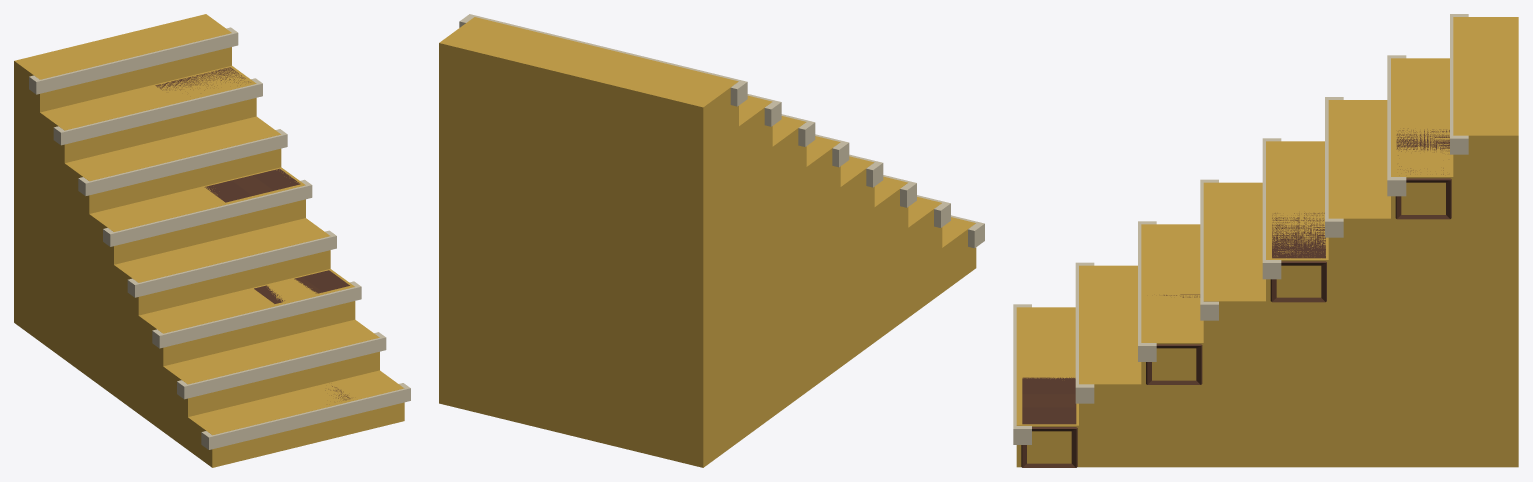
File: stairs-crate-butter.glb
The picture shows the model from 3 angles, left to right: view 1: azimuth 30°, elevation 25°; view 2: azimuth 150°, elevation 25°; view 3: azimuth 270°, elevation 25°; orthographic projection. The views are drawn at different scales.
Parts seen in each view (by area): view 1: stairs-crate-butter; view 2: stairs-crate-butter; view 3: stairs-crate-butter.
Part boxes in pixels (x1,y1,x2,y2): stairs-crate-butter: [14, 14, 410, 467]; stairs-crate-butter: [439, 14, 984, 467]; stairs-crate-butter: [1013, 14, 1518, 467].
Size of the model in its own units: 1.42 by 1.77 by 2.43.
